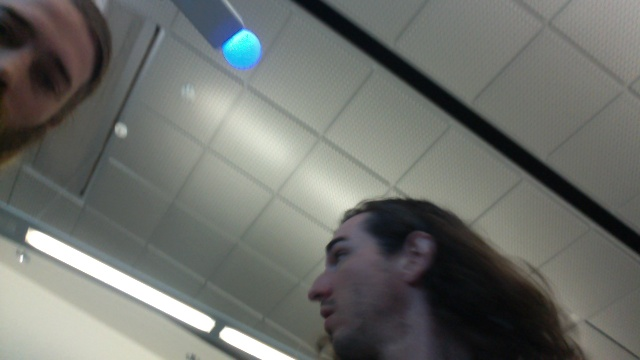wand: (224, 30, 262, 68)
